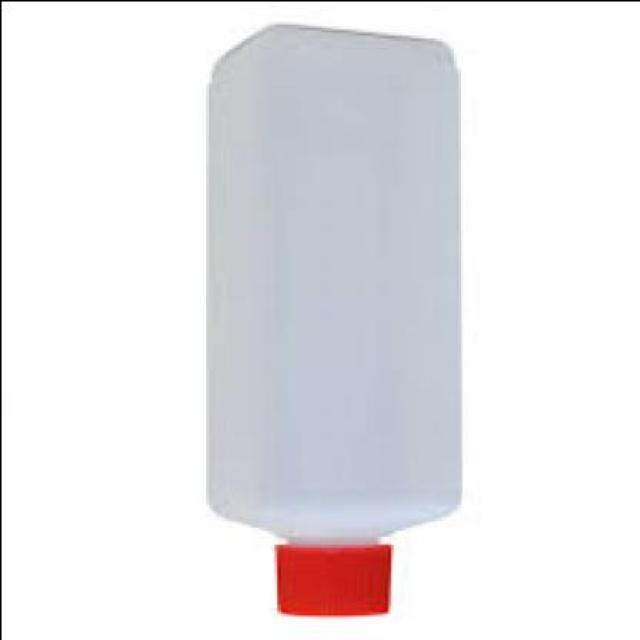PLASTIC: (202, 26, 458, 614), (267, 546, 393, 617)
